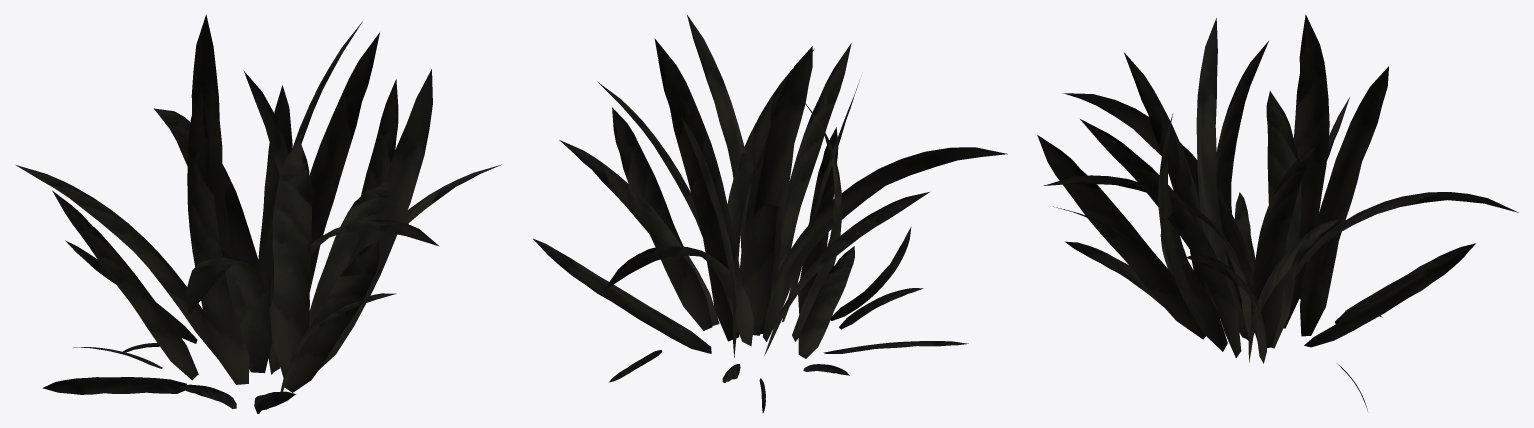
3 views of the same model, side by side, from view 1: azimuth 30°, elevation 25°; view 2: azimuth 150°, elevation 25°; view 3: azimuth 270°, elevation 25° (orthographic). The views are drawn at different scales.
Parts seen in each view (by area): view 1: SM_BM_Roots_02_LOD0; view 2: SM_BM_Roots_02_LOD0; view 3: SM_BM_Roots_02_LOD0.
Part boxes in pixels (bbox=[...]): SM_BM_Roots_02_LOD0: bbox=[16, 14, 501, 413]; SM_BM_Roots_02_LOD0: bbox=[533, 15, 1007, 413]; SM_BM_Roots_02_LOD0: bbox=[1037, 14, 1518, 411].
Bounding box in the file's own units: 1.06 × 0.8306 × 1.1.
